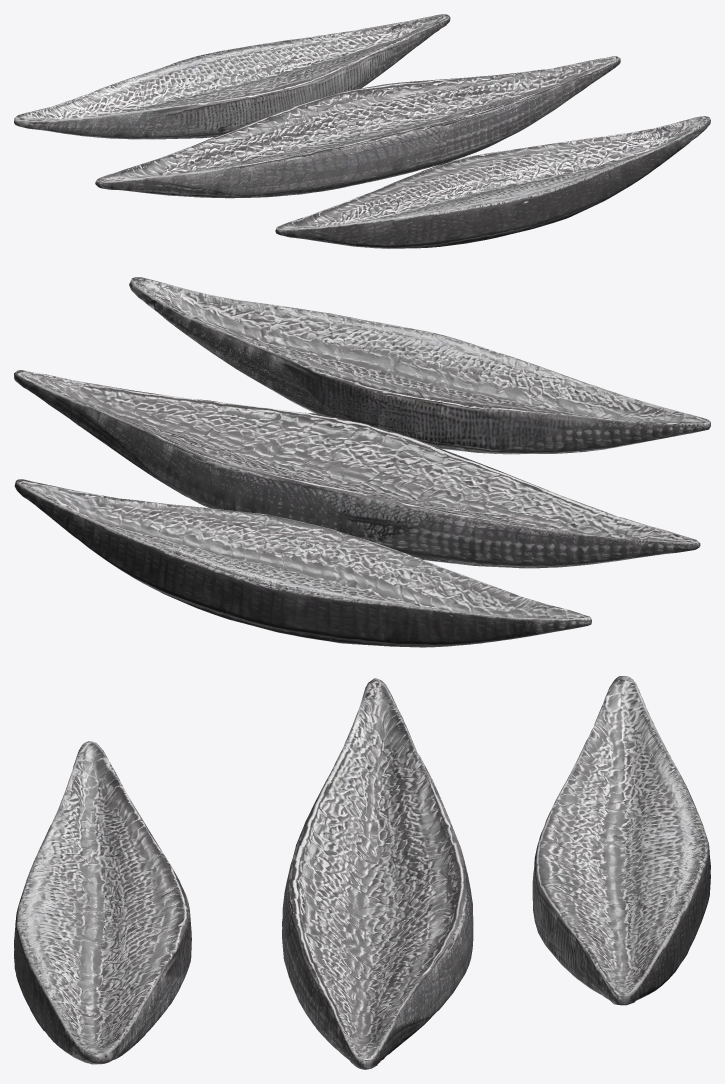
Rendered from Silver Pod Wall.glb.
3 renders of one model, top to bottom at view 1: azimuth 30°, elevation 25°; view 2: azimuth 150°, elevation 25°; view 3: azimuth 270°, elevation 25°, orthographic. The views are drawn at different scales.
Visible parts, largest first — view 1: Mesh_0; view 2: Mesh_0; view 3: Mesh_0.
Part boxes in pixels (x1,y1,x2,y2): Mesh_0: [14, 14, 710, 248]; Mesh_0: [14, 277, 710, 647]; Mesh_0: [14, 676, 710, 1069].
Bounding box in the file's own units: 65.41 × 5.96 × 49.91.
Materials: 1 (1 with a texture image).
